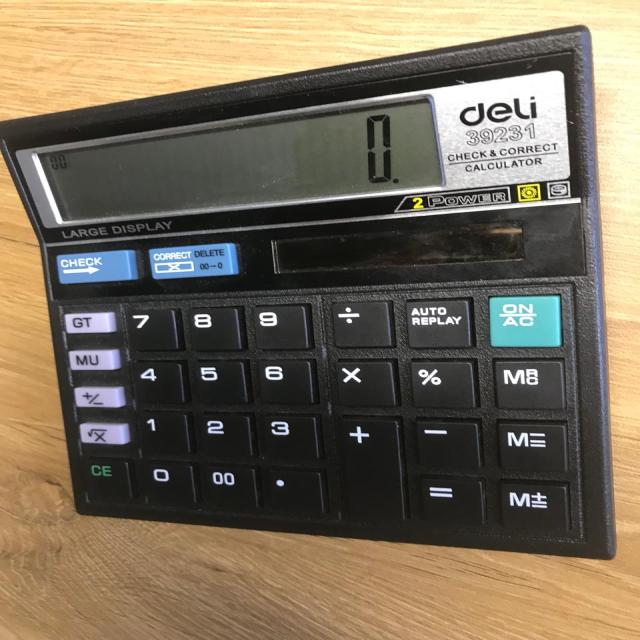calculator: (1, 23, 618, 561)
